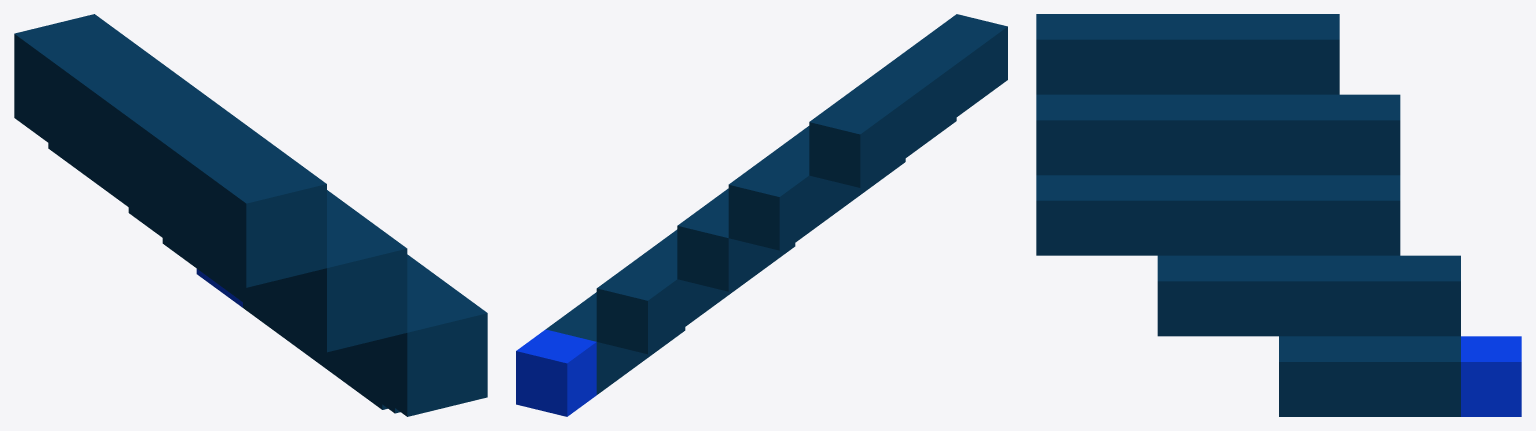
The model's file is Wing-11-UVintruder_Fin_R.obj.
The picture shows the model from 3 angles, left to right: view 1: azimuth 30°, elevation 25°; view 2: azimuth 150°, elevation 25°; view 3: azimuth 270°, elevation 25°; orthographic projection. The views are drawn at different scales.
Visible parts, largest first — view 1: UVintruder_Fin_R; view 2: UVintruder_Fin_R; view 3: UVintruder_Fin_R.
Part boxes in pixels (bbox=[...]): UVintruder_Fin_R: bbox=[14, 14, 487, 416]; UVintruder_Fin_R: bbox=[516, 14, 1007, 416]; UVintruder_Fin_R: bbox=[1036, 14, 1521, 416].
Size of the model in its own units: 0.5 by 0.5 by 0.8.
